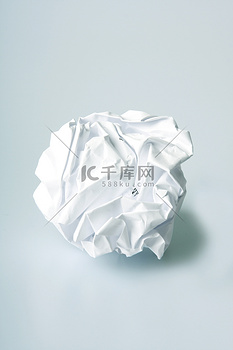Paper: (32, 109, 193, 260)
